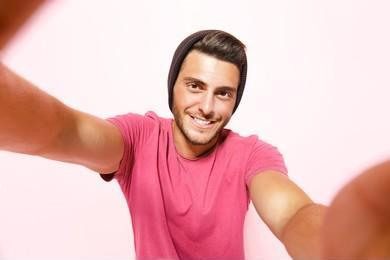face: (176, 61, 234, 142)
